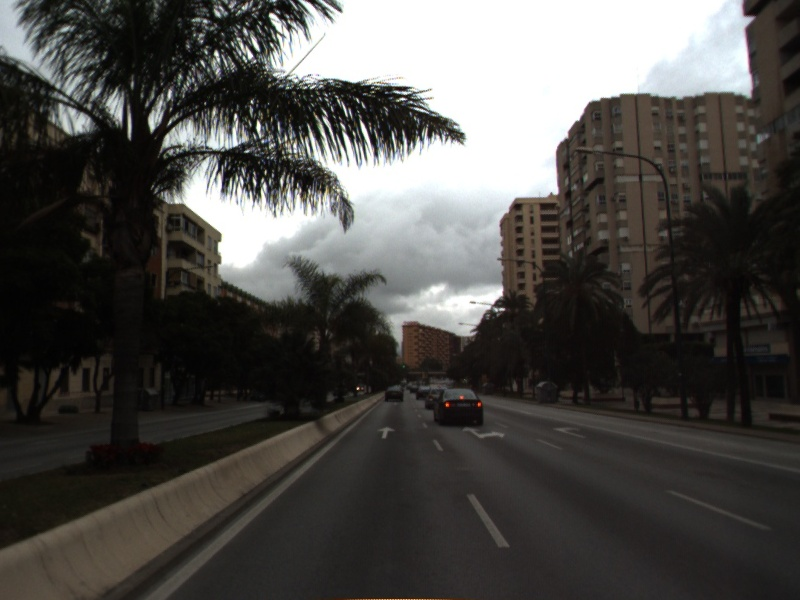RIGHT: (551, 424, 588, 440)
STRAIGHT: (376, 424, 397, 441)
STRAIGHT_RIGHT: (460, 424, 507, 441)
